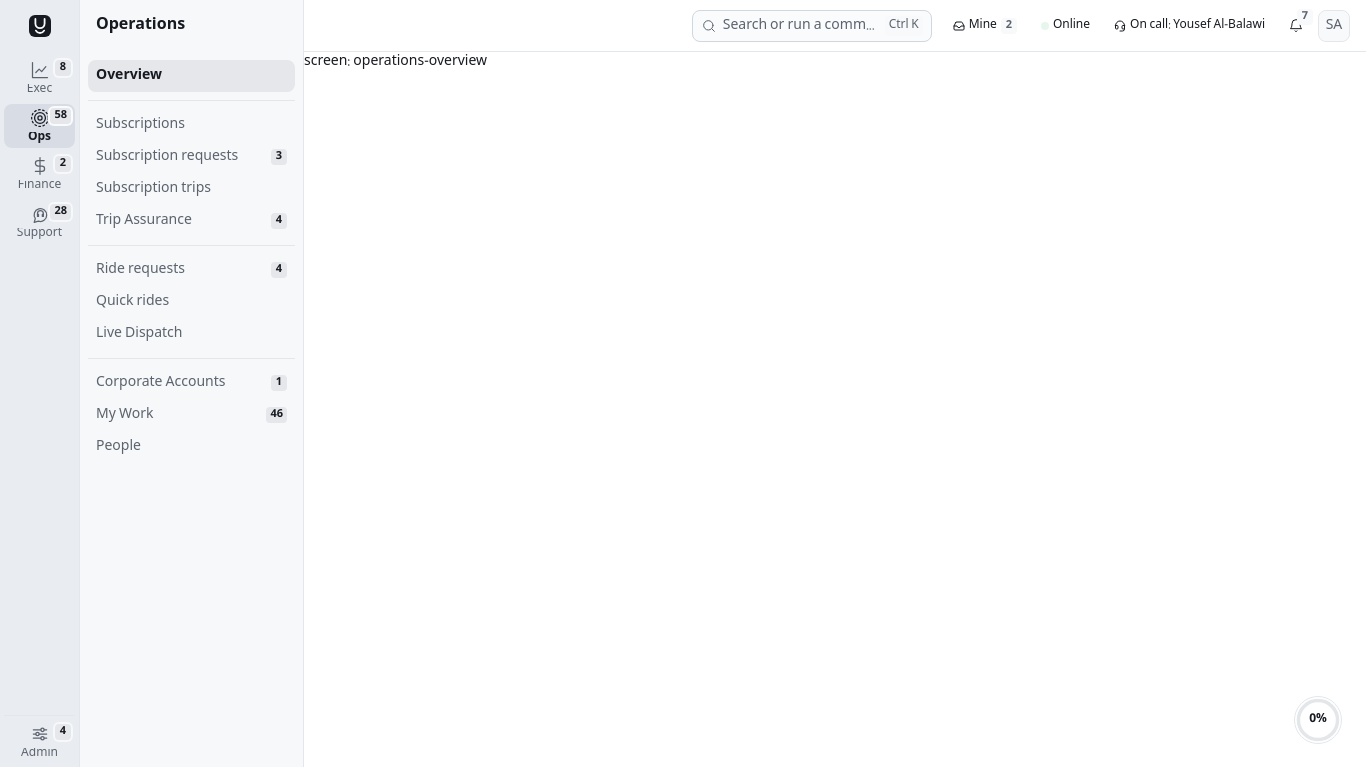
it: `Switch user` switches the operator, and does not navigate to Team & Access › signs the console in as the chosen operator and lands on their workspace
Click the button with aria-label "Account" at (1334, 26), box x1=1318 y1=10 x2=1350 y2=42
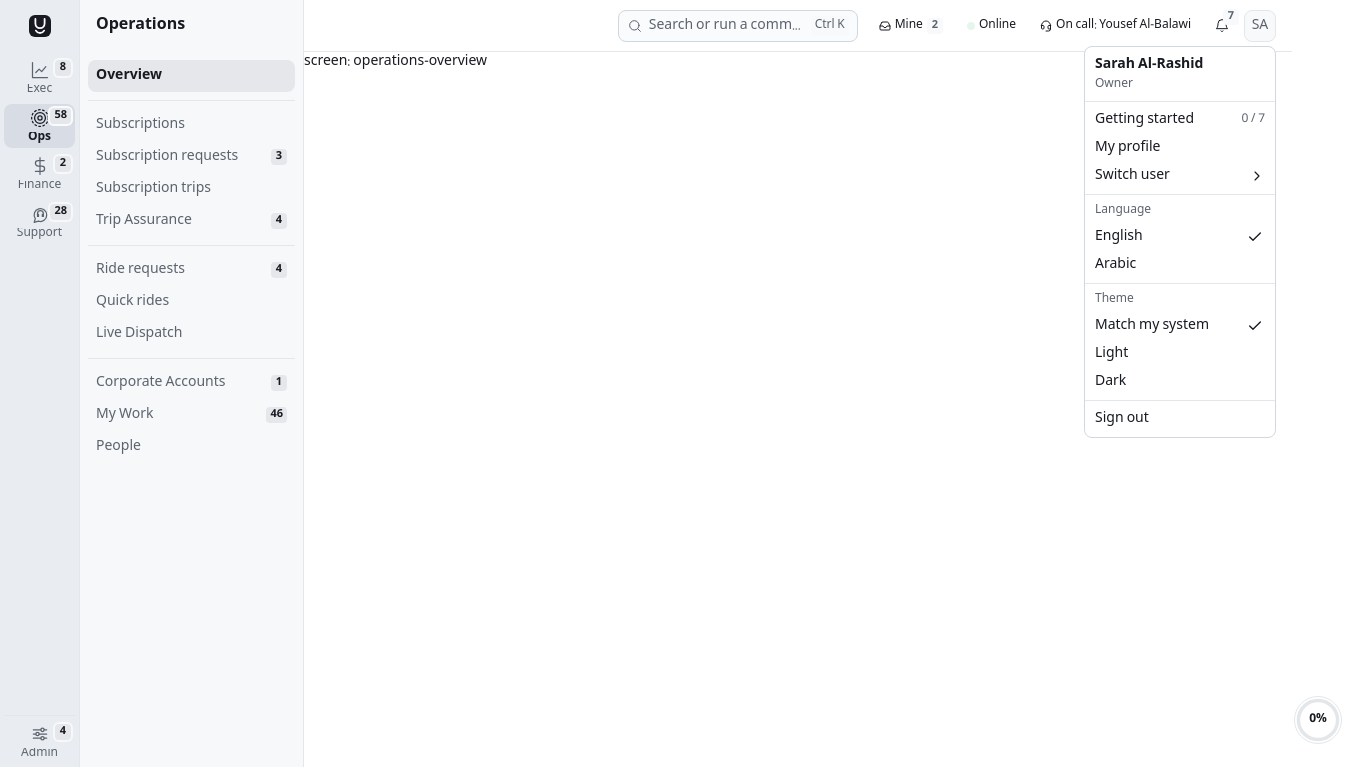
Click the menu item "Switch user" at (1132, 176), box x1=1089 y1=162 x2=1271 y2=190
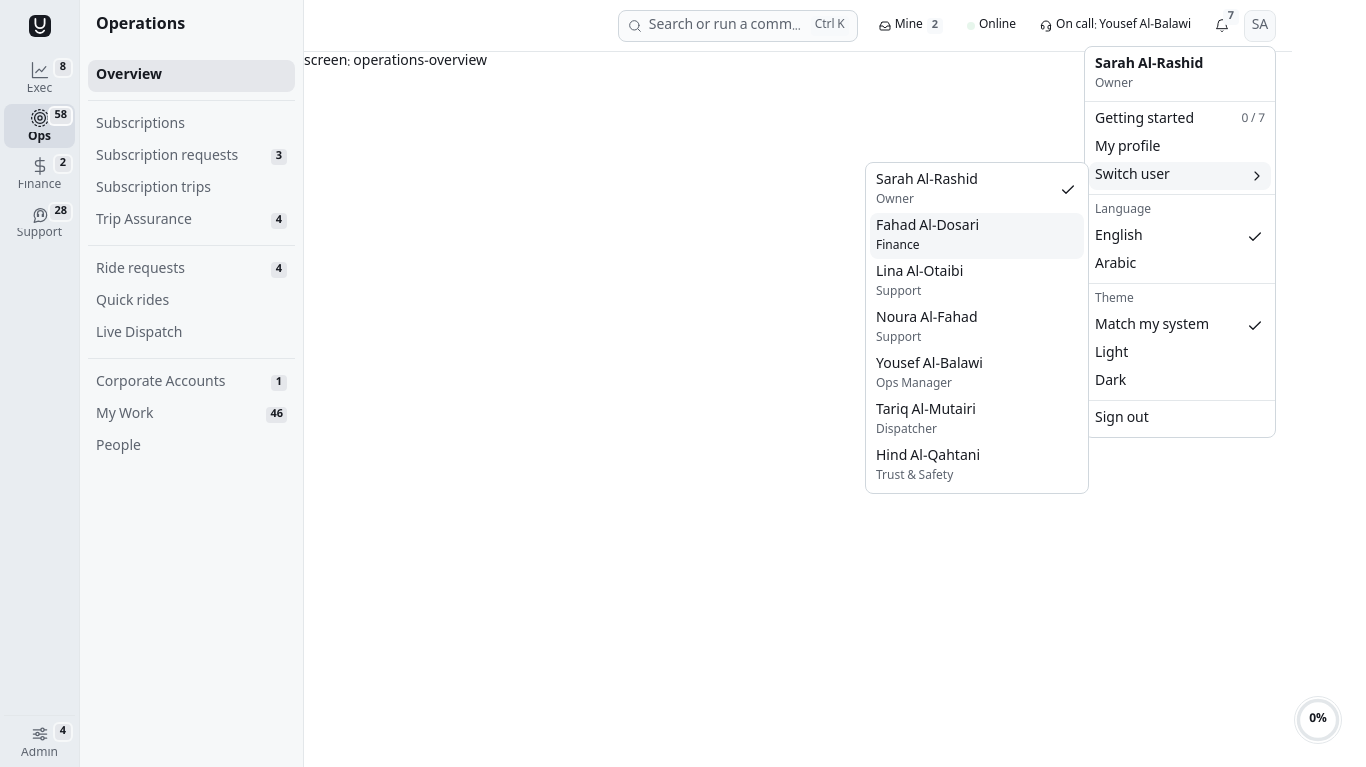
Press Enter
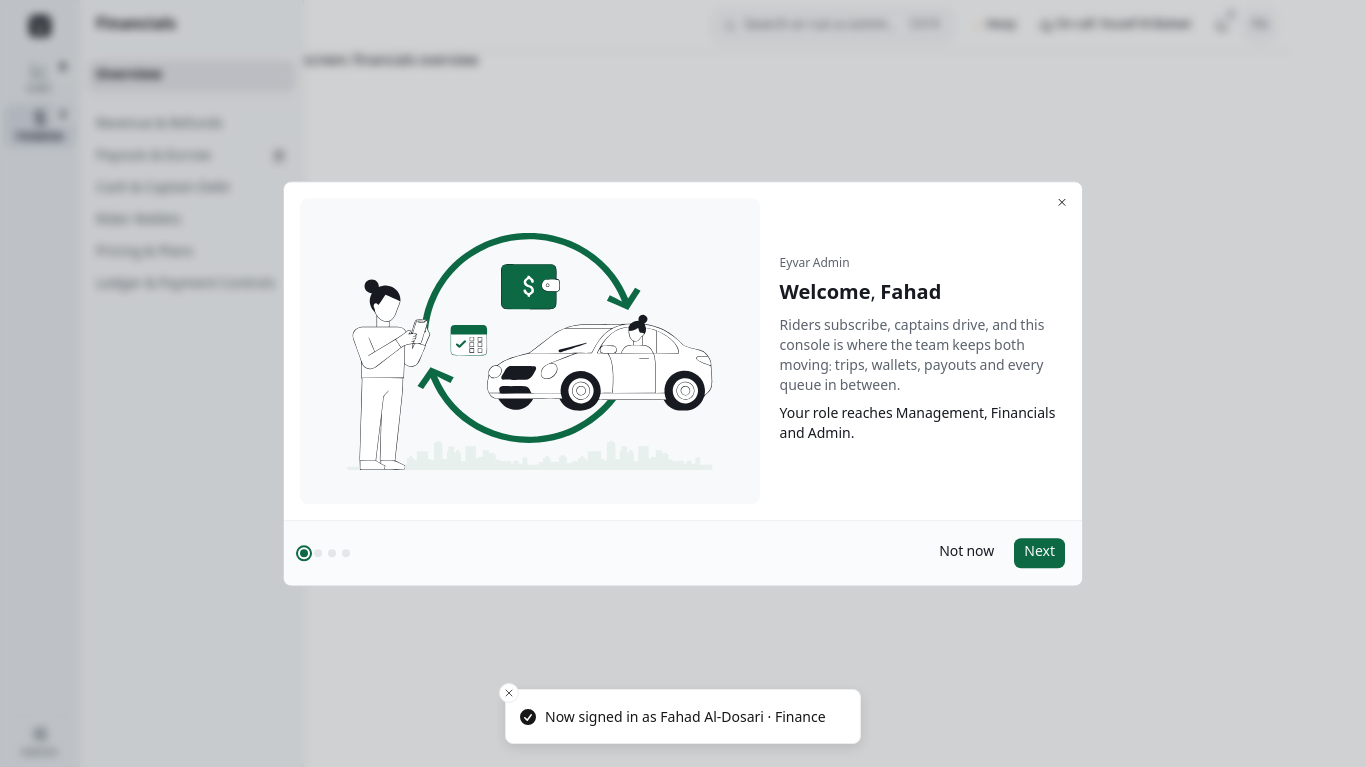
Check: the text "Now signed in as Fahad Al-Dosari · Finance" is shown, box x1=545 y1=706 x2=826 y2=727
